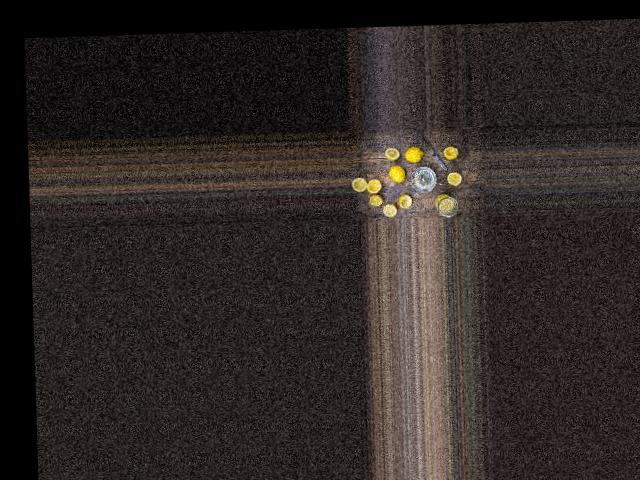lemon: (398, 147, 423, 165)
